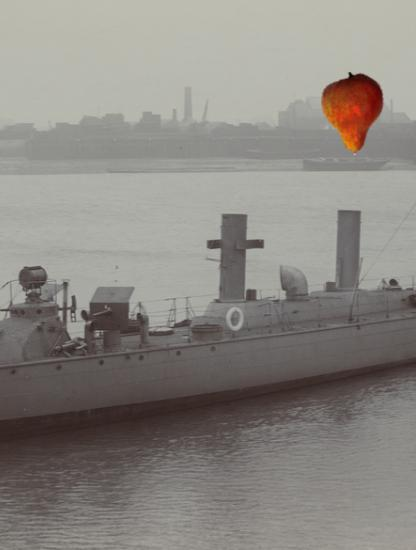Pear: (314, 72, 396, 154)
